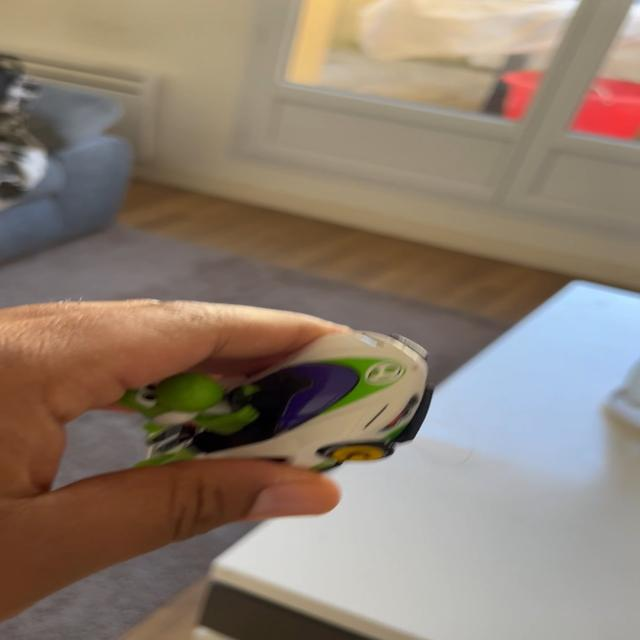yoshi: (80, 340, 418, 491)
